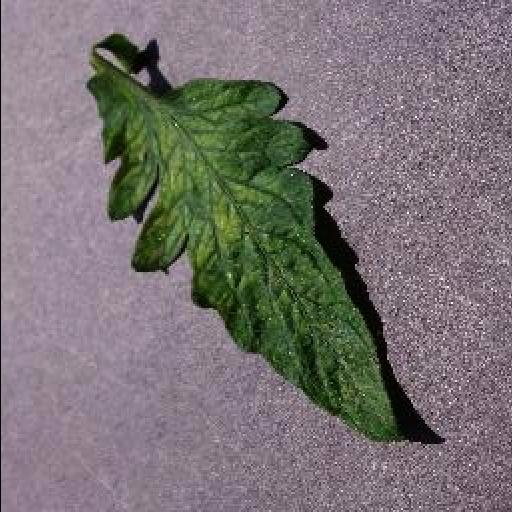Mosaic Virus: (85, 66, 409, 446)
